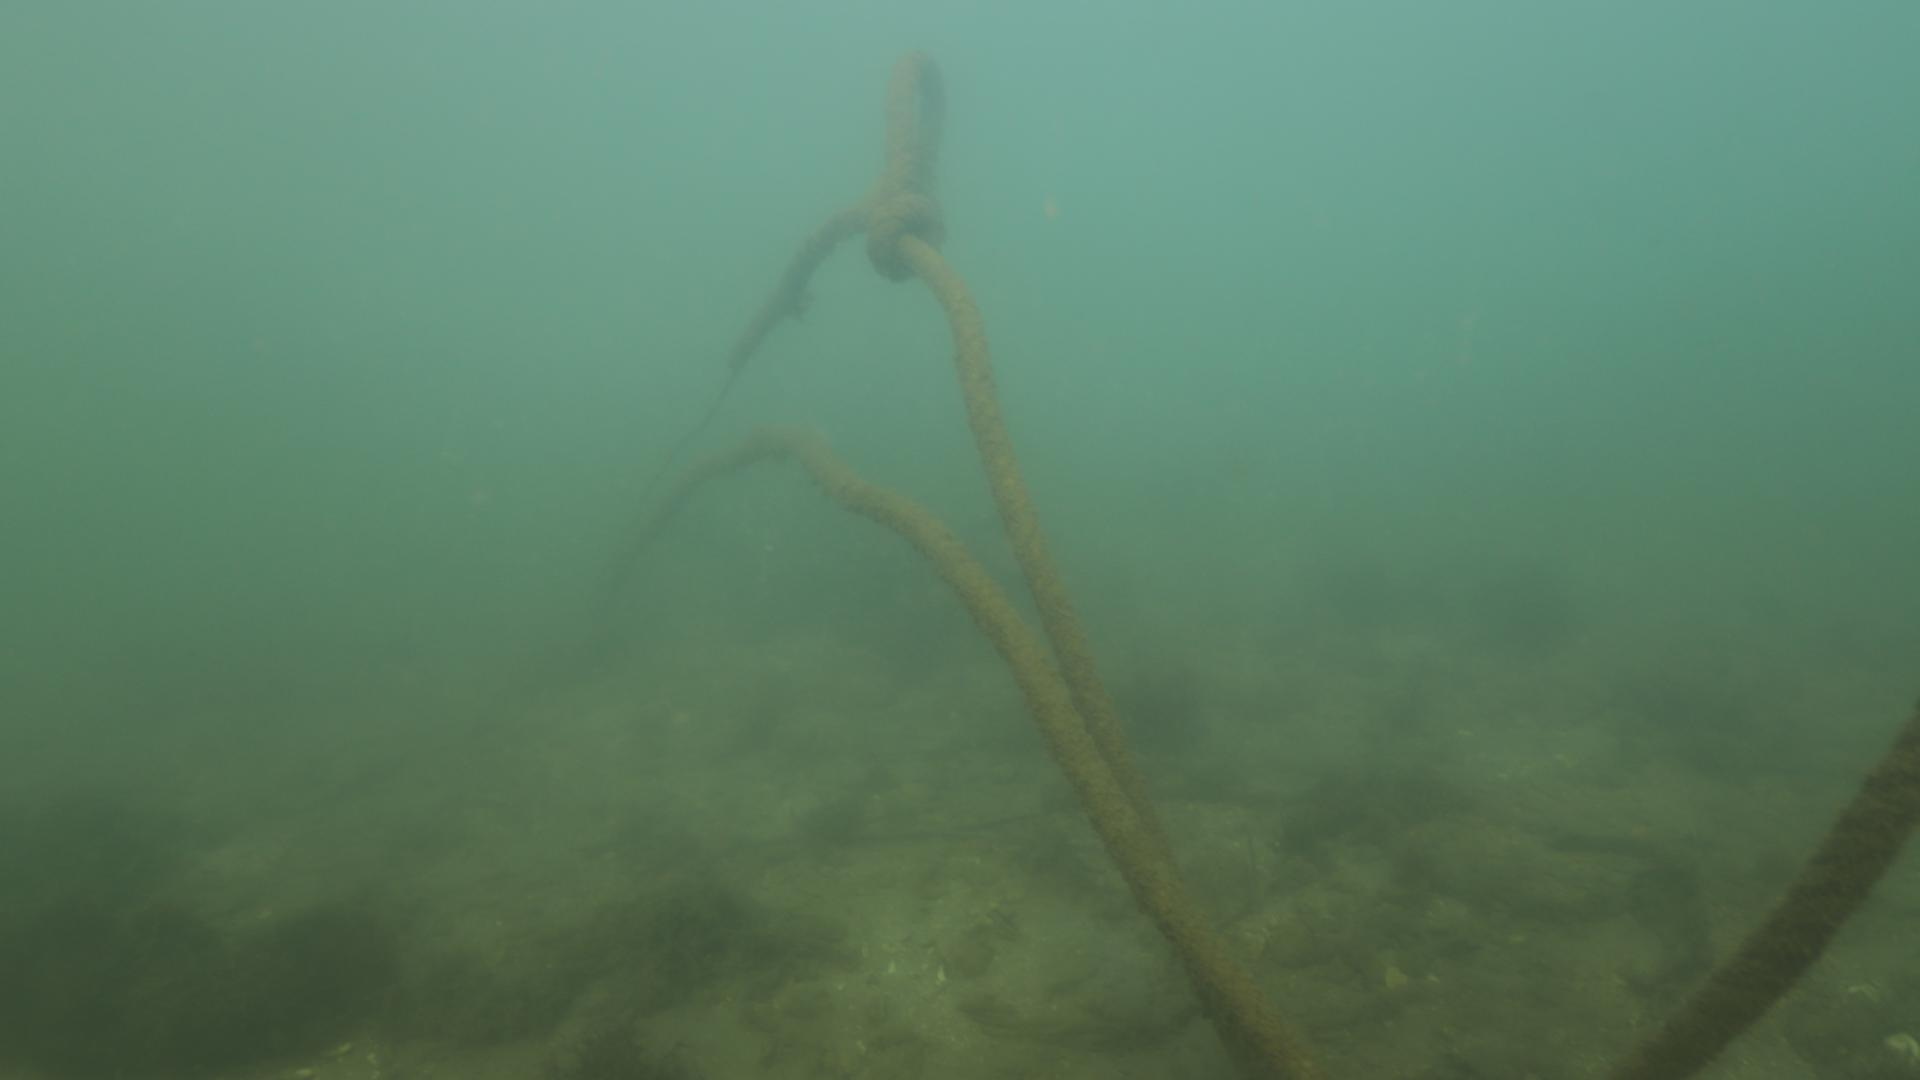bundle of ropes: (683, 40, 1920, 1080)
